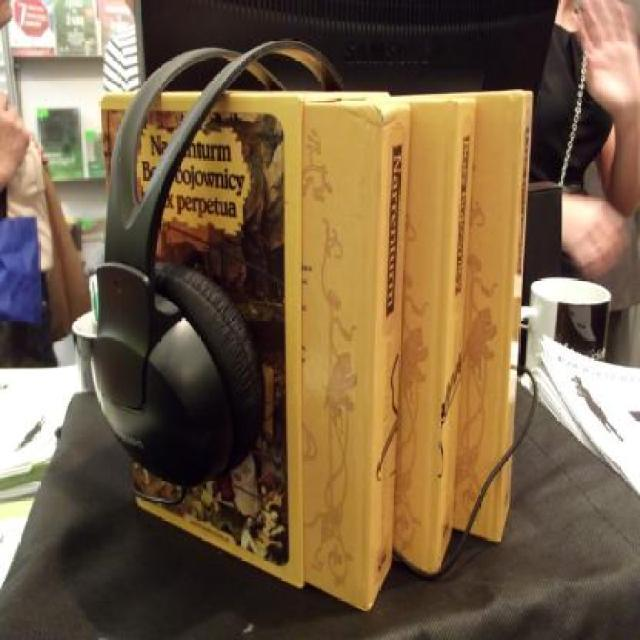earphone: (62, 20, 332, 498)
